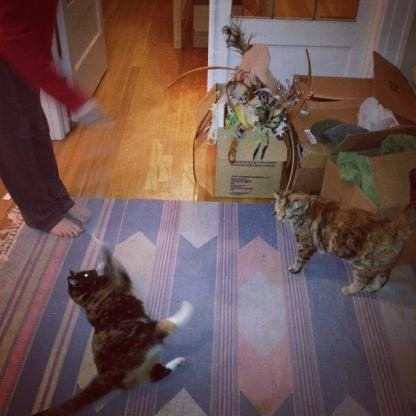Target: (35, 244, 196, 413), (268, 167, 416, 296)
